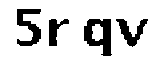5: (11, 5, 43, 50)
q: (80, 15, 113, 60)
r: (46, 15, 71, 49)
v: (115, 16, 151, 49)
